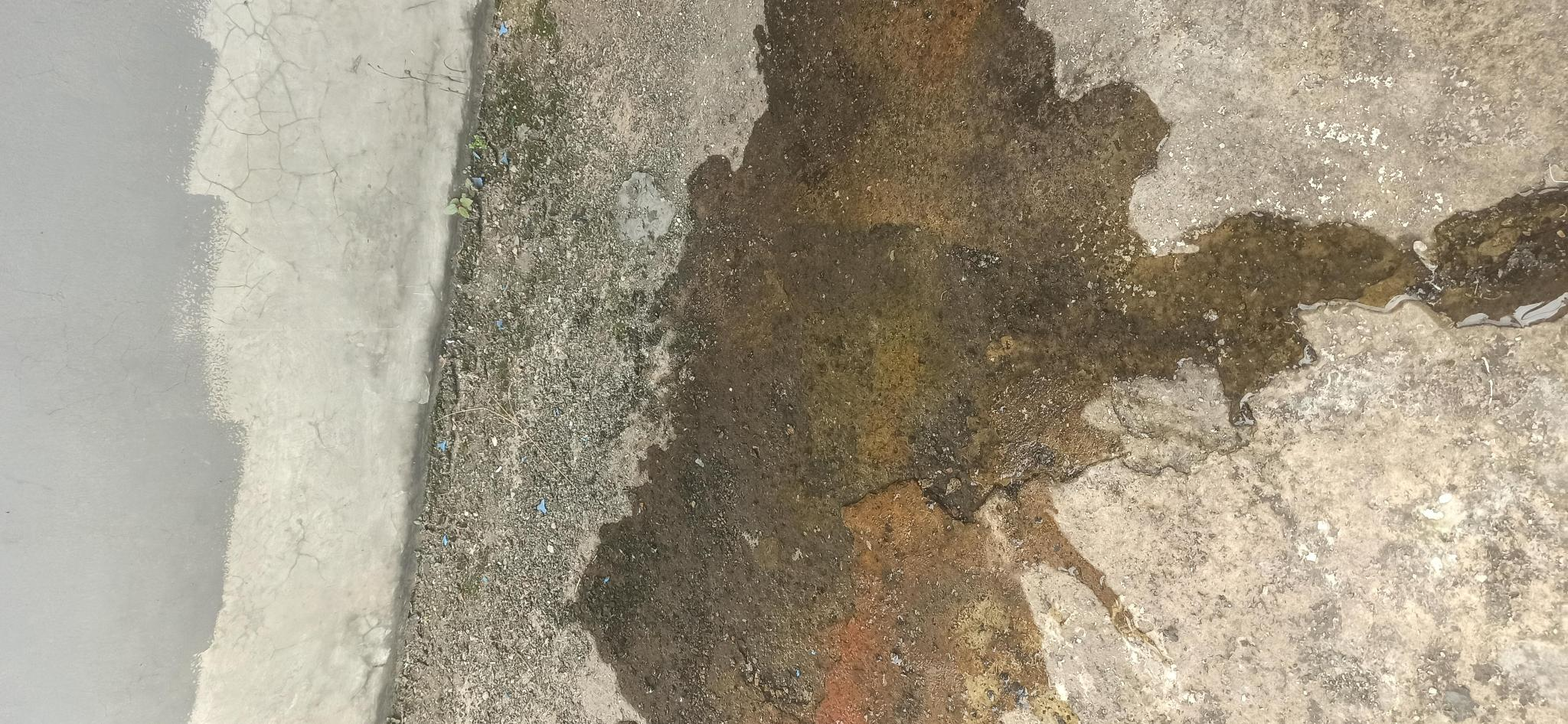water accumulation: (567, 0, 1568, 724)
